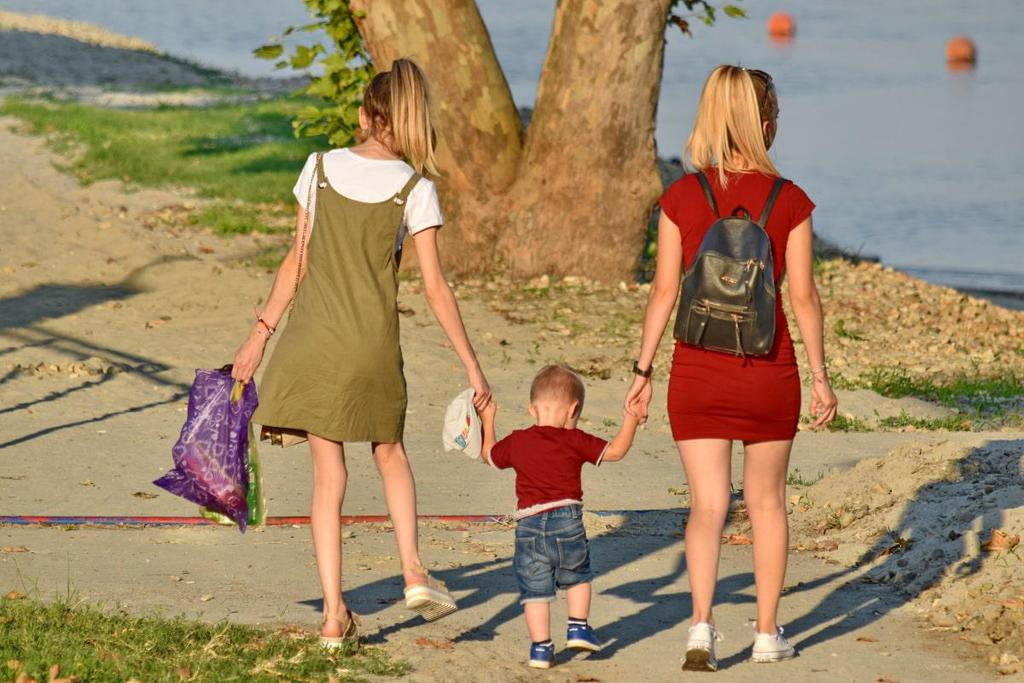child: (454, 356, 647, 663)
